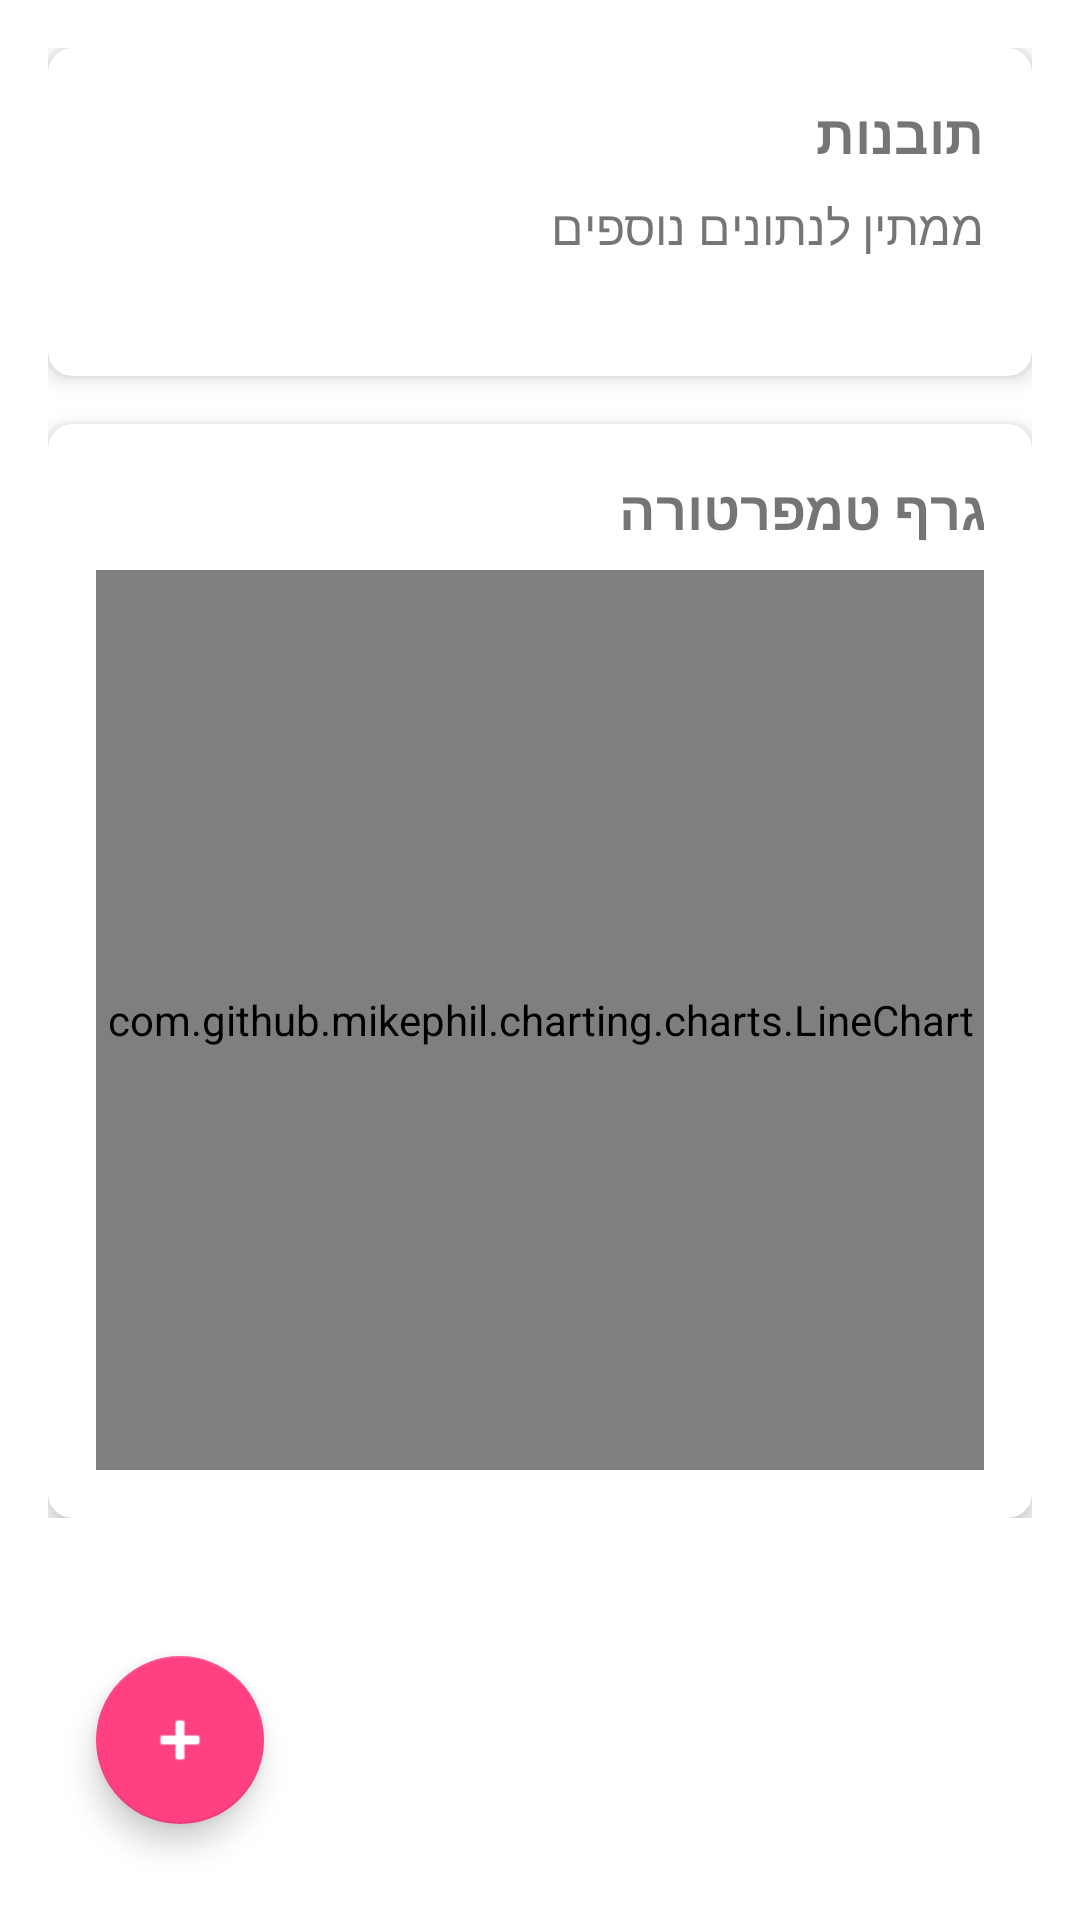

Named icons in this screenshot (1080×1920) and their centers, point (x, y):
הוסף רישום: point (180, 1740)
